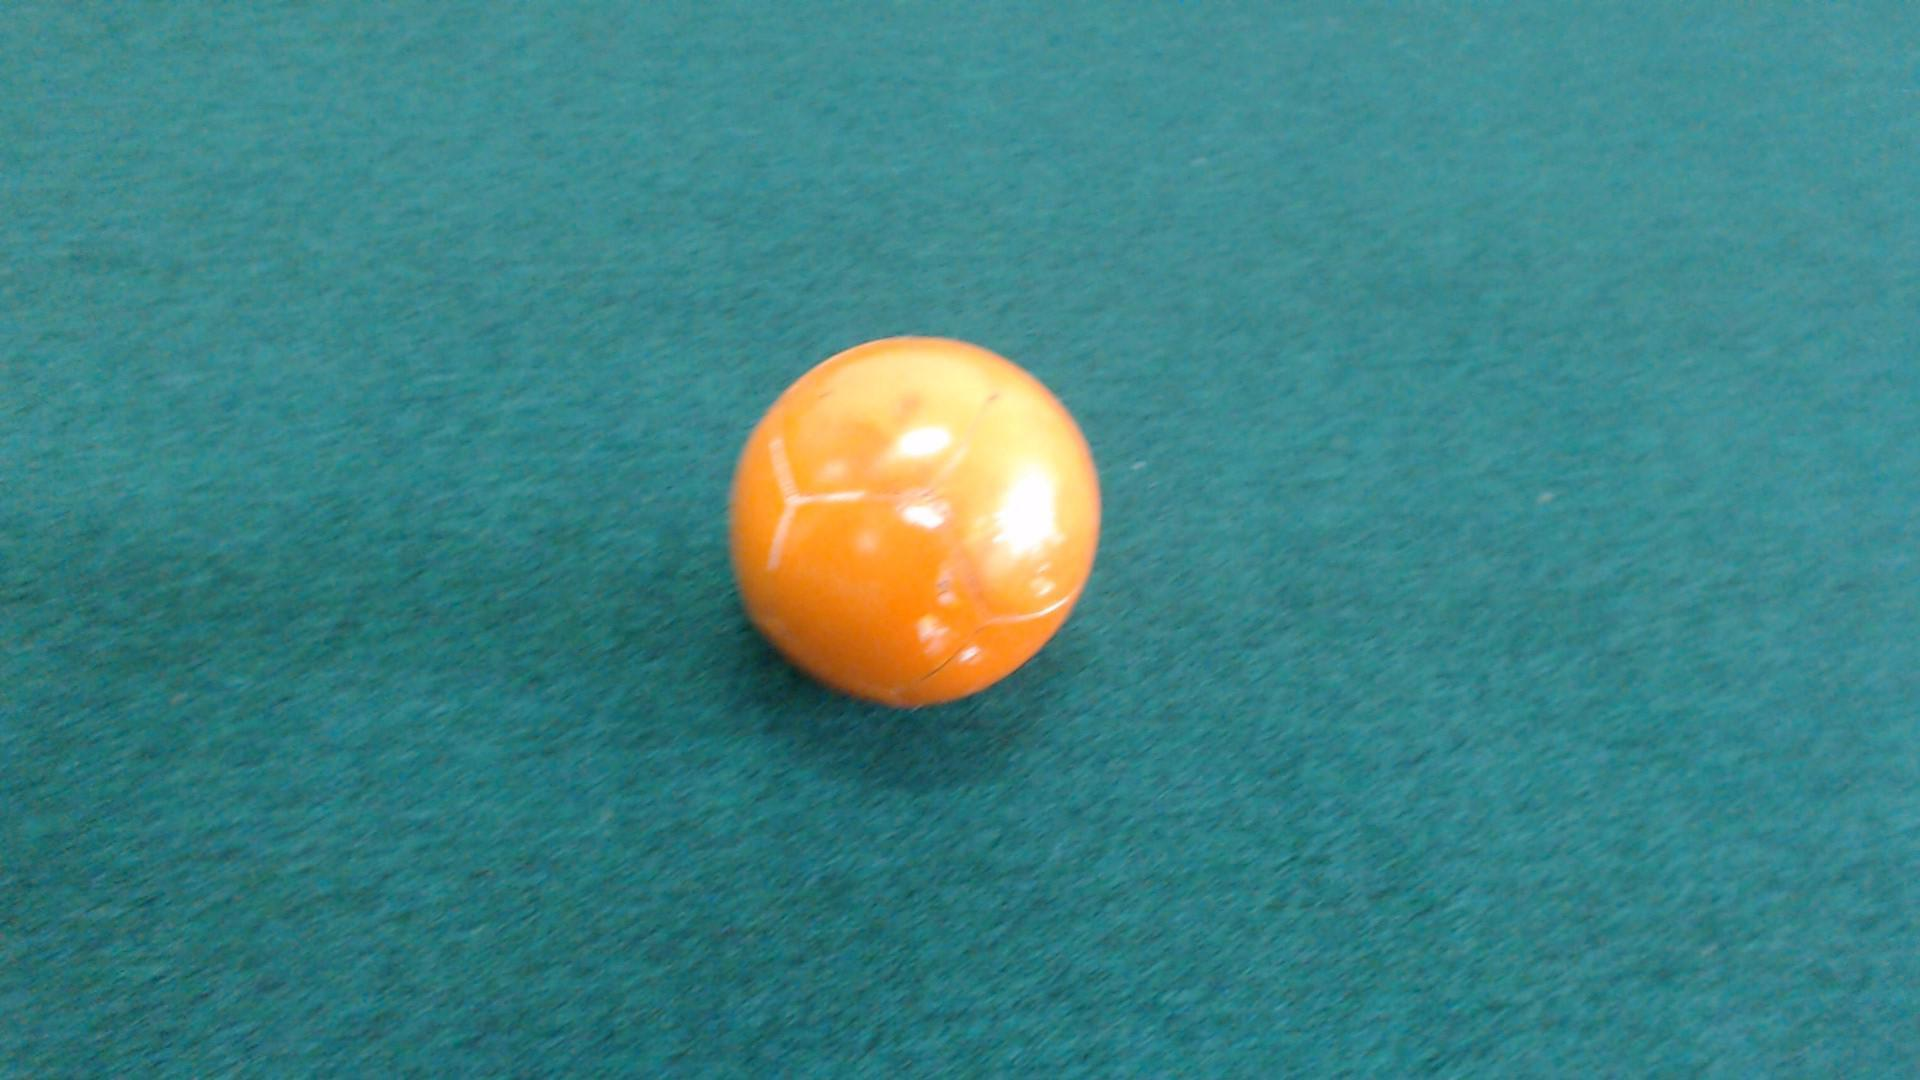bola: (698, 338, 1163, 721)
